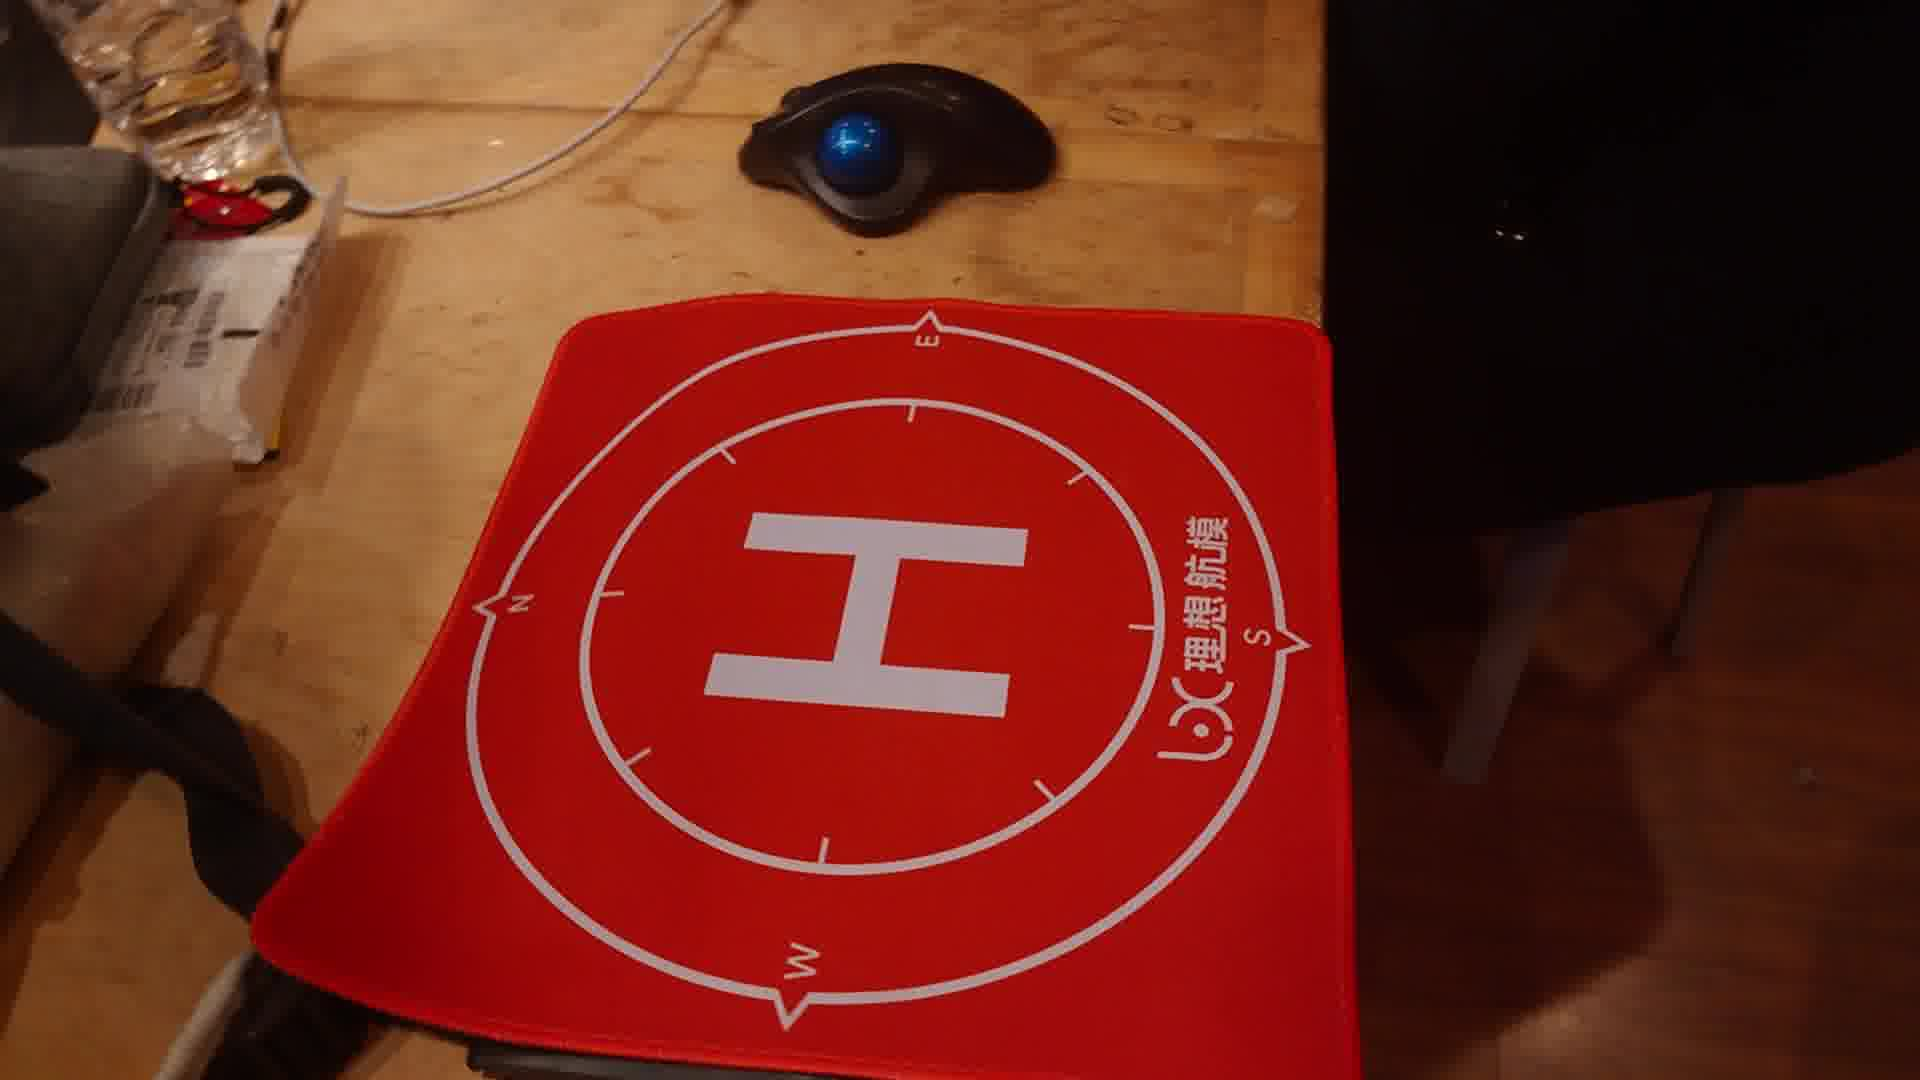H: (702, 512, 1029, 724)
